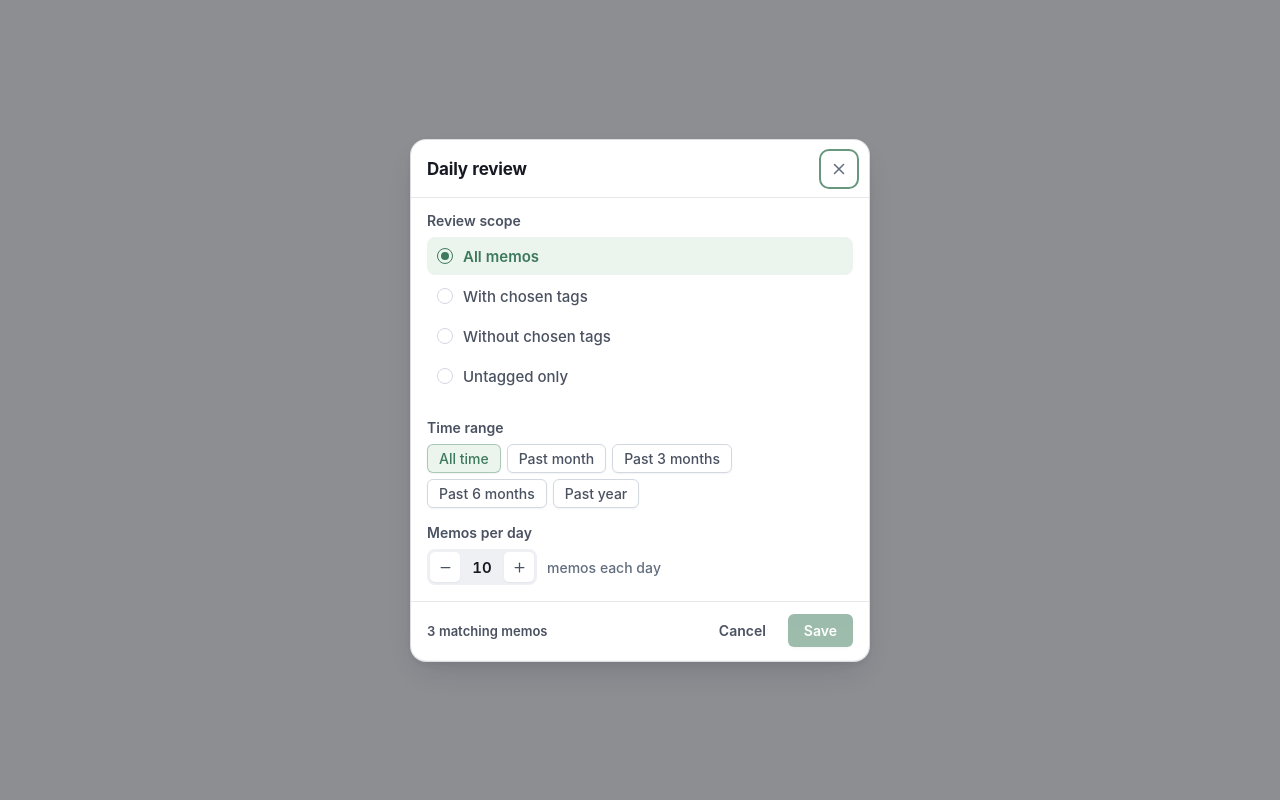
Test: review settings save › keeps Save at rest until the draft differs from what is saved
Click the button "Save". click: (820, 630)
box: [788,614,853,646]
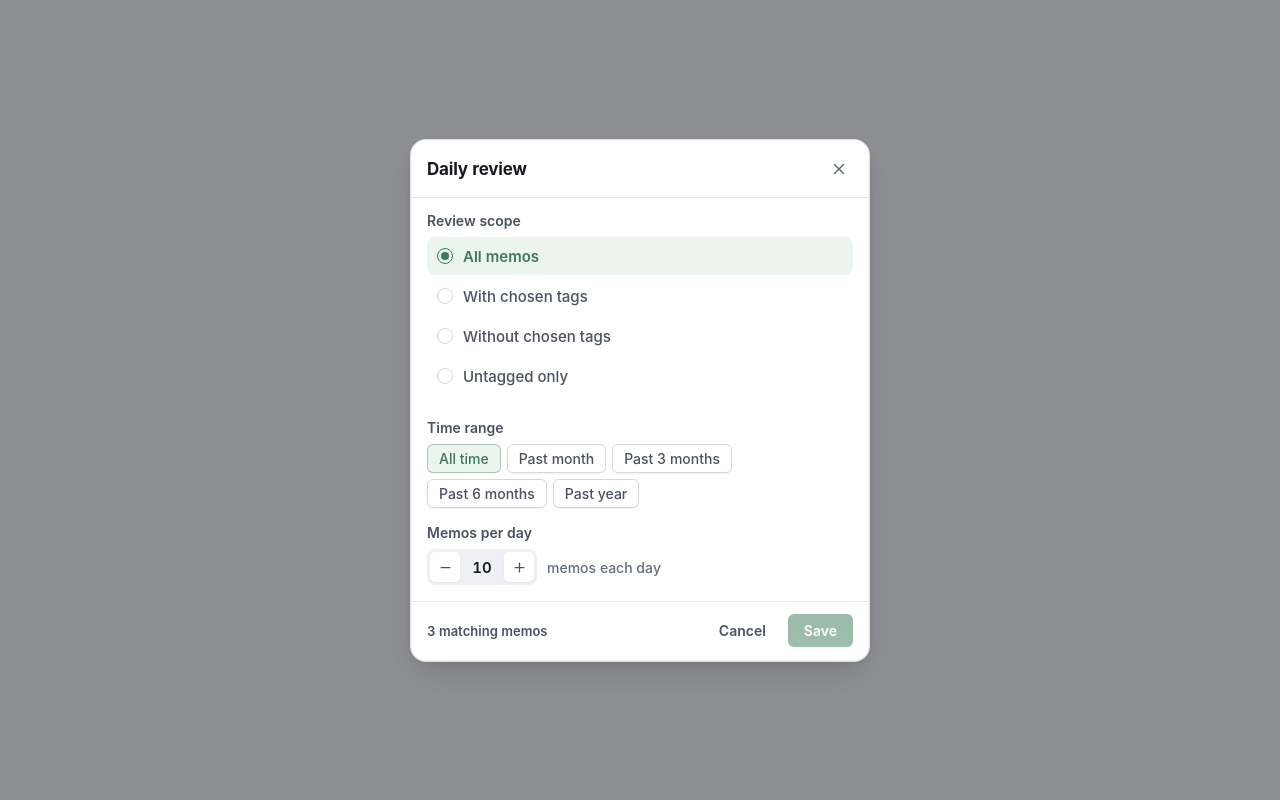
Click the radio button labelled "Past month". click: (556, 458)
box: [507,444,606,472]
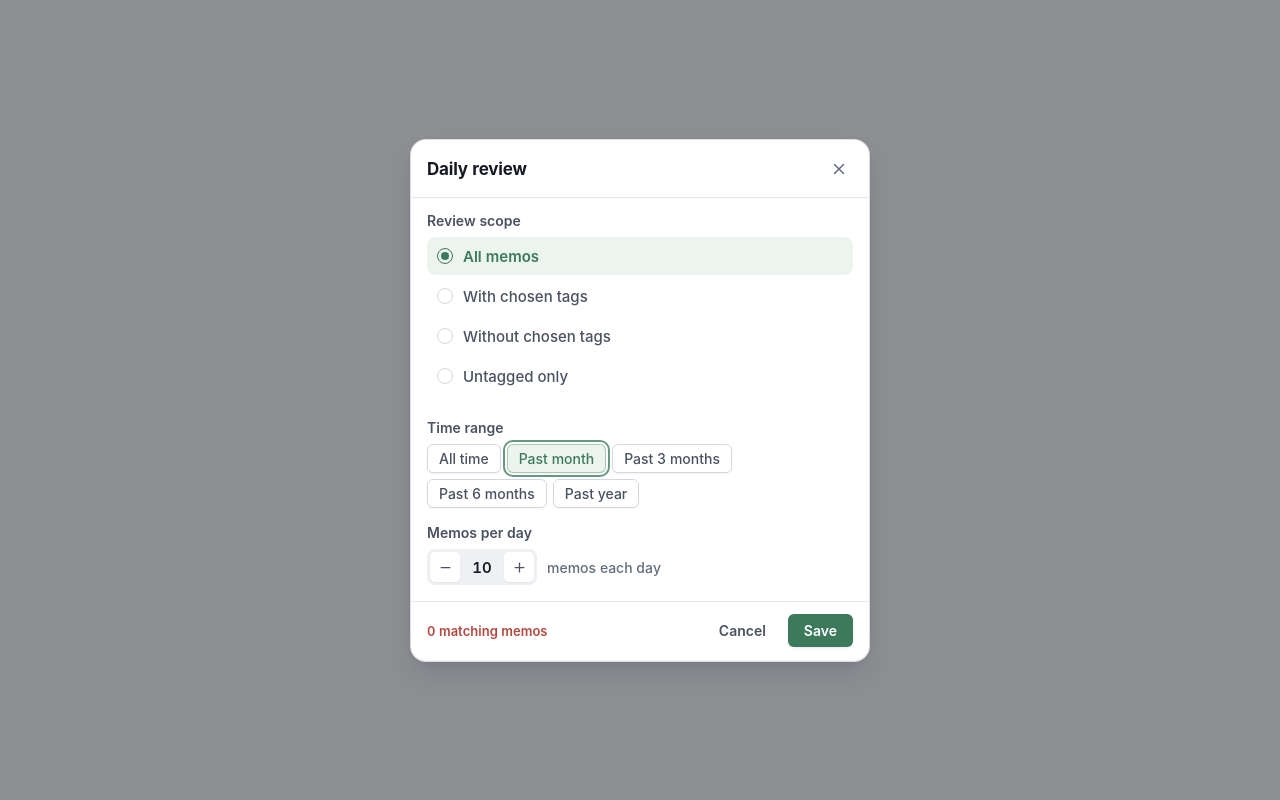
Expected: the button "Save" is enabled, [788,614,853,646]
Click the radio button labelled "All time". click: (464, 458)
box: [427,444,501,472]
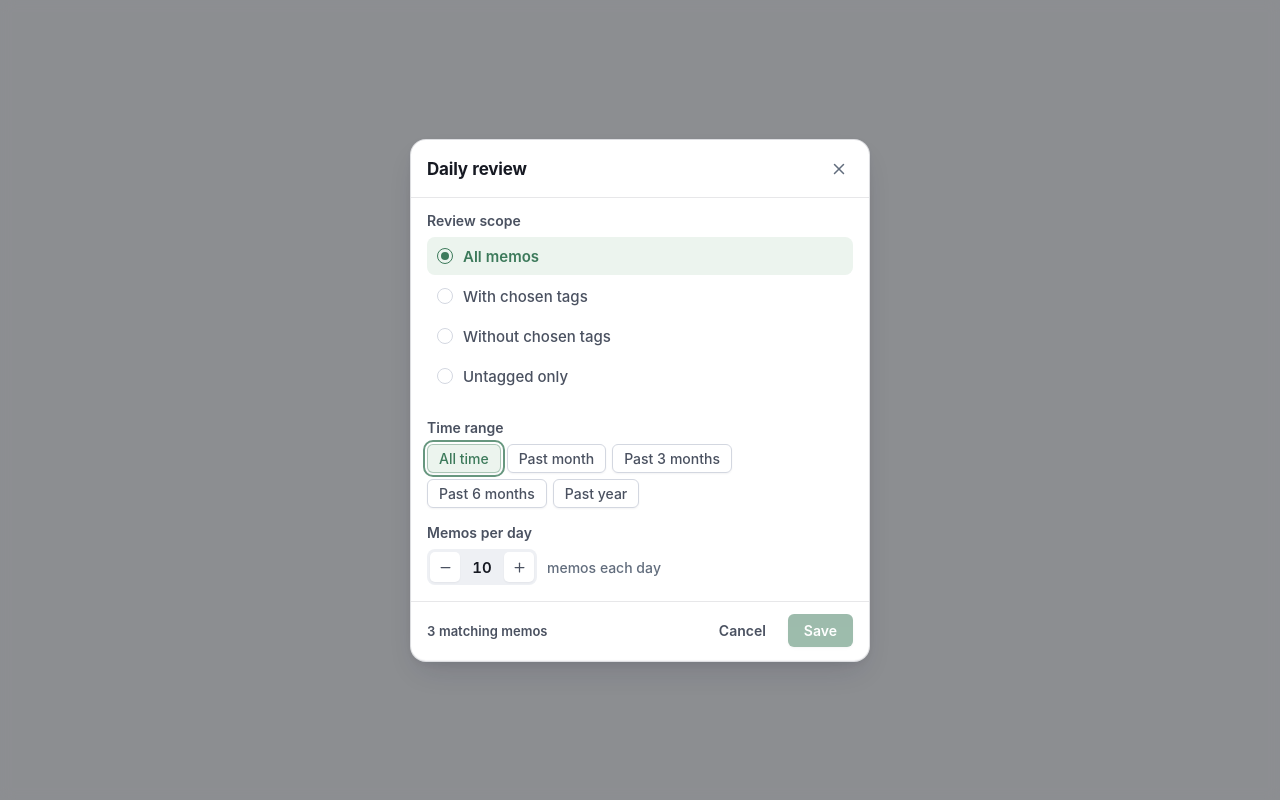
Expected: the button "Save" is disabled, [788,614,853,646]
